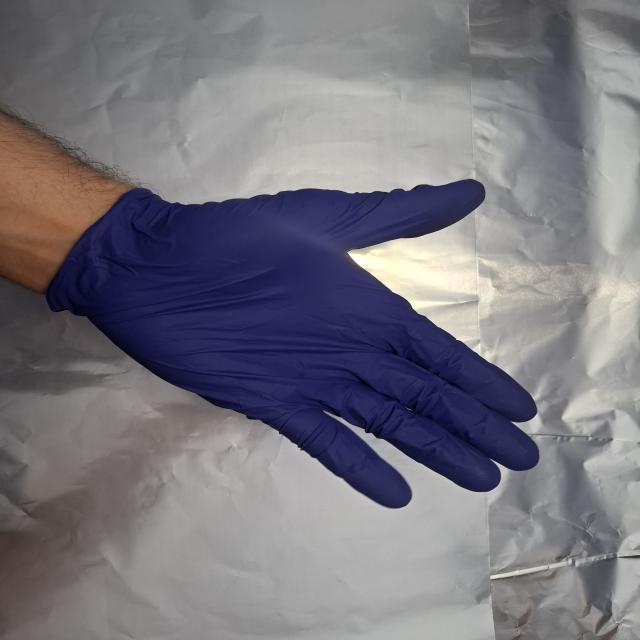glove_on: (53, 176, 543, 513)
